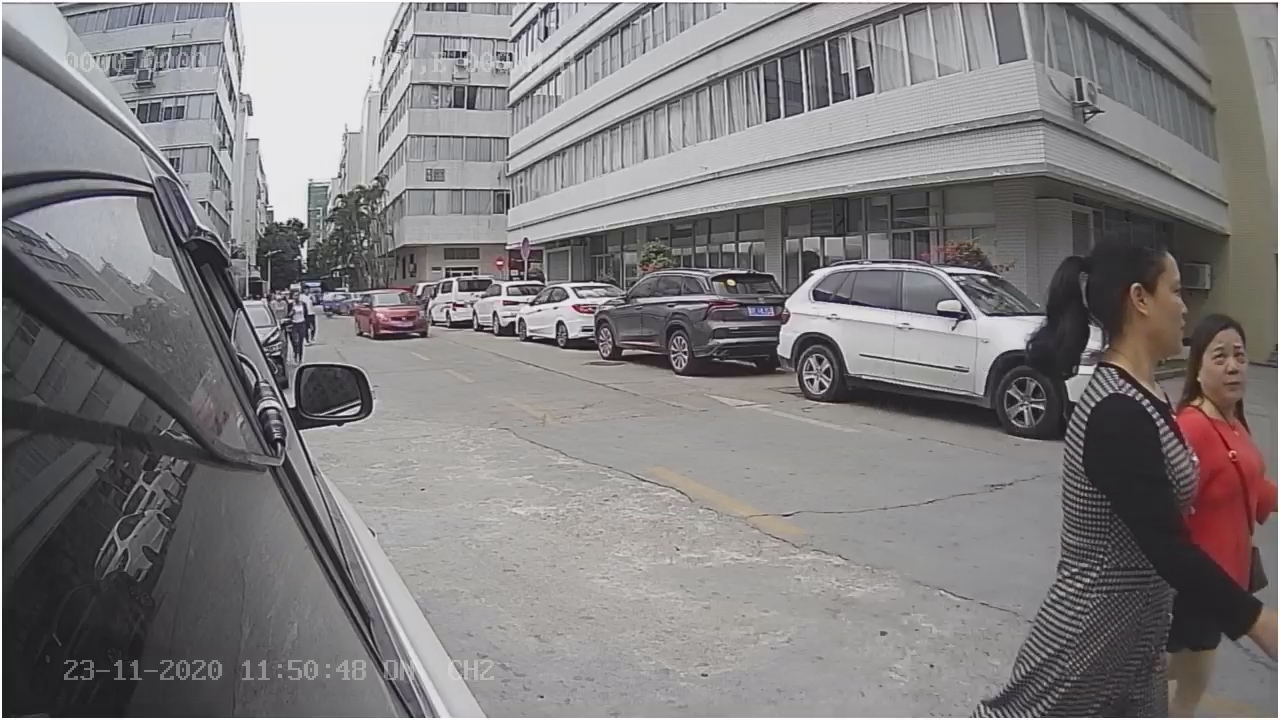person: (1007, 219, 1200, 530)
